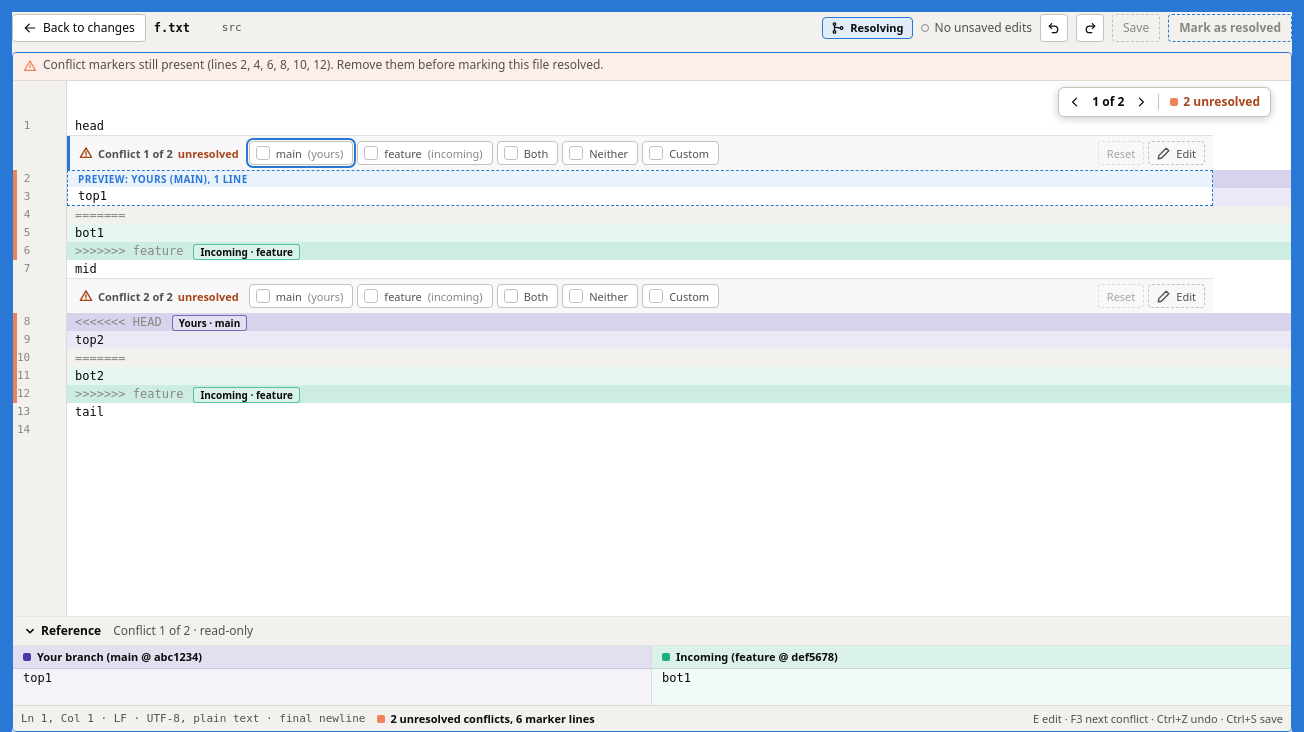
read-only first (FR-593..FR-600) › opens Resolving: readOnly state but still focusable text, caret hidden, hint in the single slot, focus on the first chip
The width and height of the screenshot is (1304, 732).
Expected: the number of messages with test id "editor-slot" is 1, [13,53,1291,81]
Expected: the message with test id "editor-slot" shows "Conflict markers still present", [43,56,604,73]
Click the 1st button "main (yours)": (301, 153) [249,141,353,165]
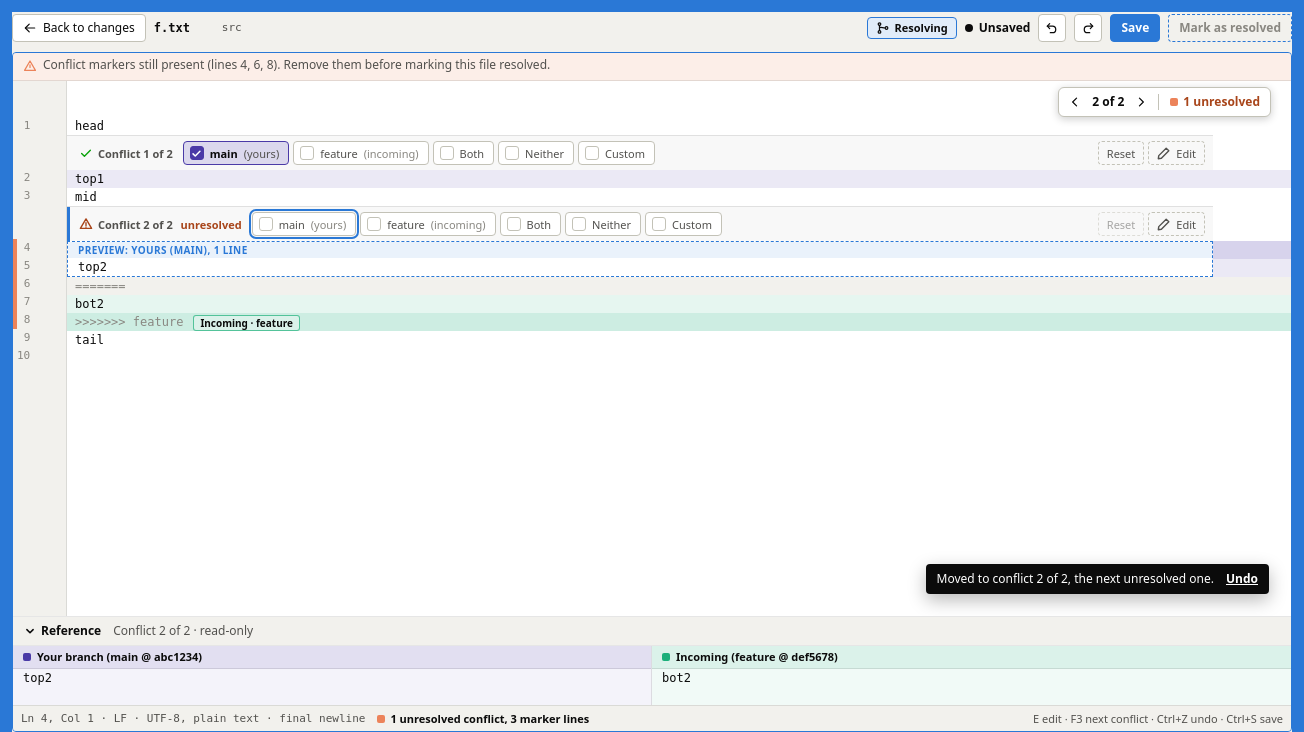
Click the 2nd button "main (yours)": (304, 224) [252,212,356,236]
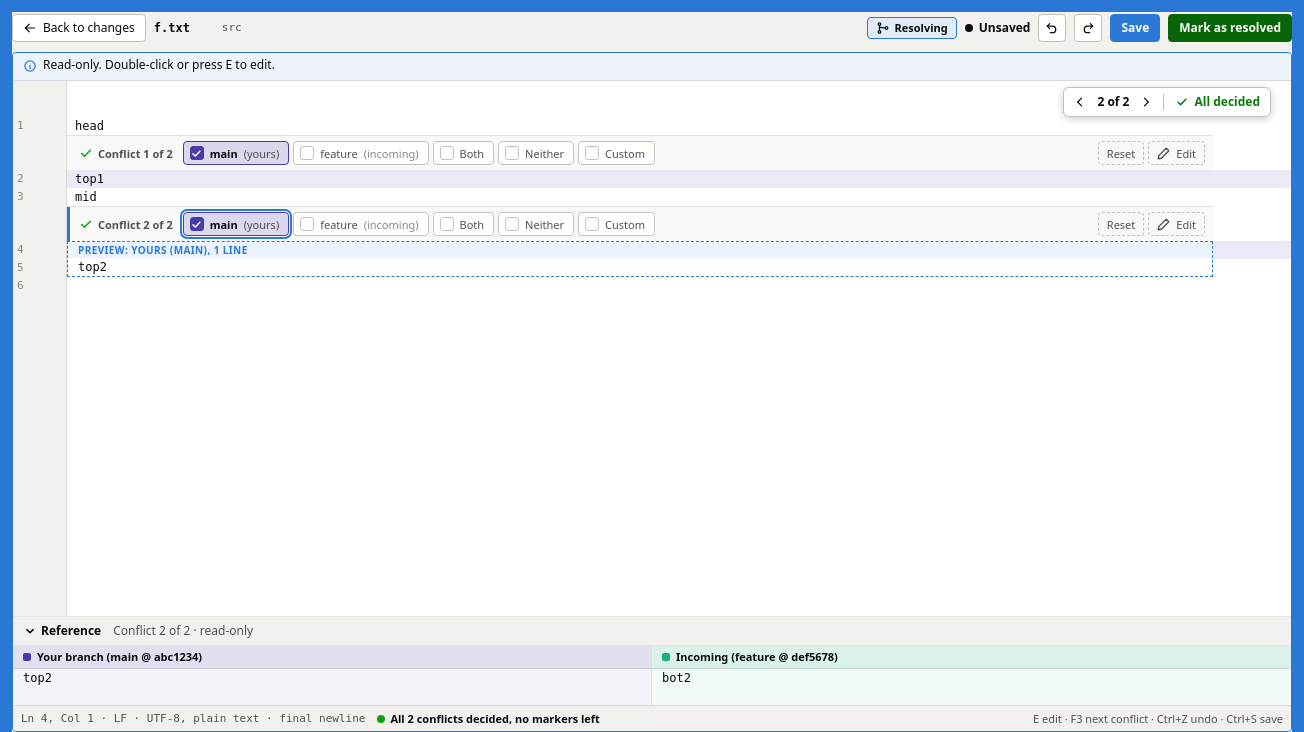
Expected: the text "E edit · F3 next conflict · Ctrl+Z undo · Ctrl+S save" is shown, [1033,711,1283,726]
Expected: the element with test id "editor-slot" reads "Read-only. Double-click or press E to edit.", [43,56,275,73]
Expected: the number of elements with test id "editor-slot" is 1, [13,53,1291,81]
